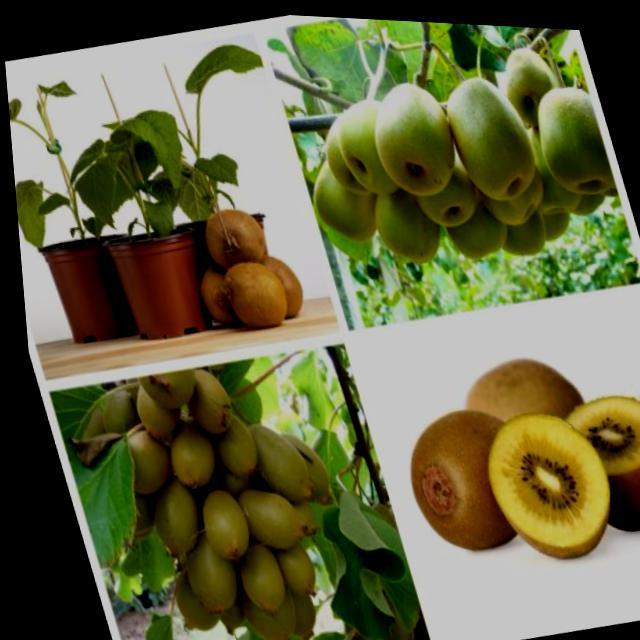kiwi: (387, 392, 540, 556), (439, 337, 597, 489), (235, 411, 308, 507), (165, 522, 233, 617), (221, 555, 296, 640), (225, 475, 299, 555), (236, 245, 306, 323), (134, 470, 198, 555), (193, 197, 267, 269), (262, 423, 325, 507), (215, 253, 285, 328), (219, 533, 282, 615), (185, 482, 245, 563), (106, 421, 170, 495), (187, 255, 251, 328), (170, 362, 231, 438), (153, 414, 214, 490), (156, 560, 219, 633), (257, 527, 313, 600), (122, 370, 179, 441), (256, 571, 312, 640), (88, 384, 141, 445)
